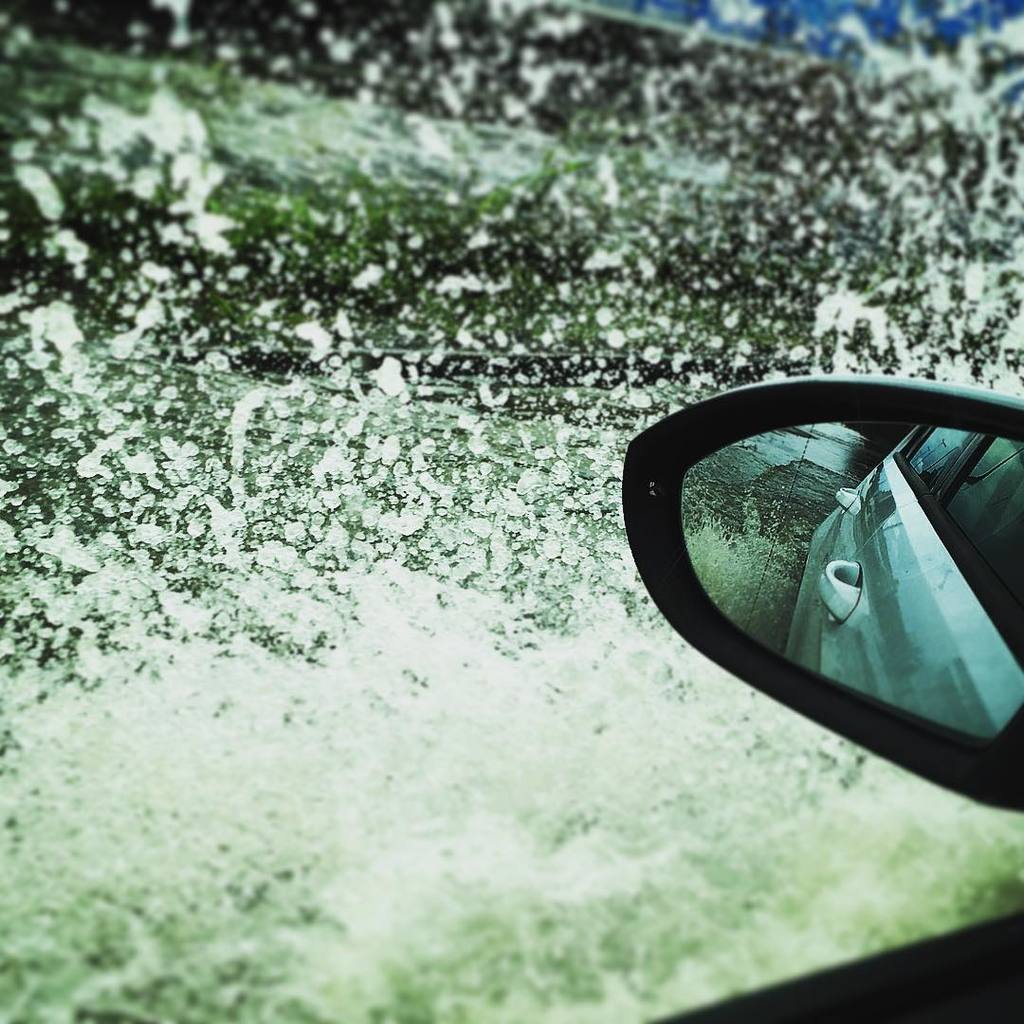Car: (591, 341, 1024, 796)
